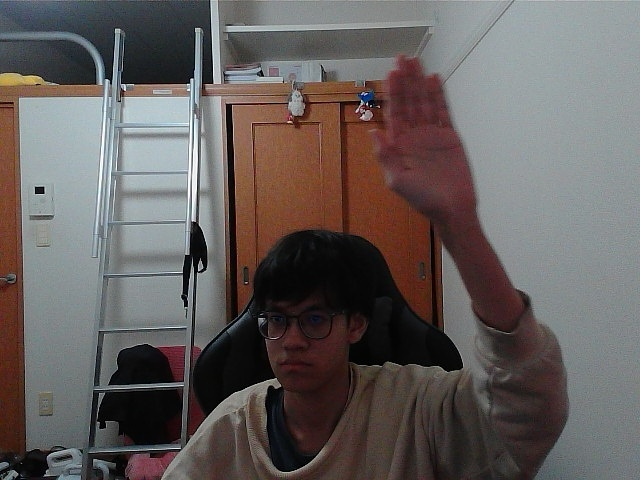open_palm: (380, 64, 448, 201)
